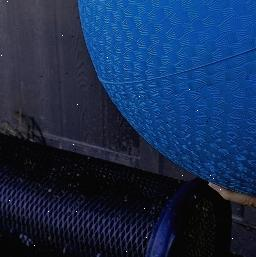algae: (75, 0, 256, 180)
